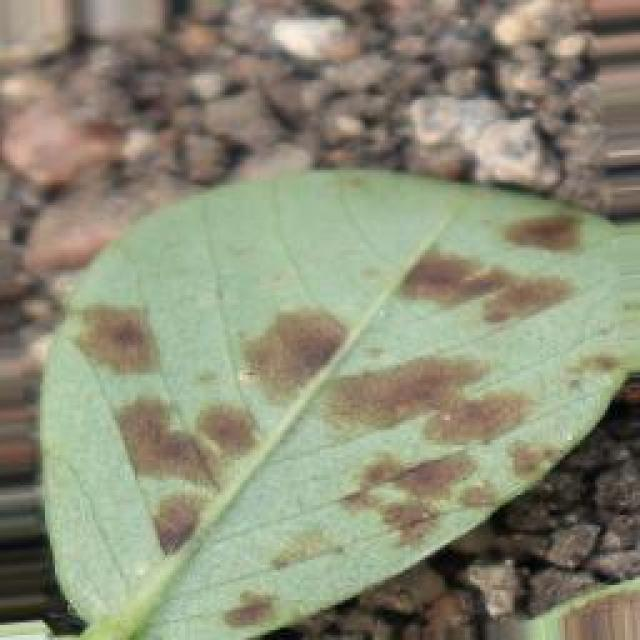Whitefly: (33, 186, 581, 608)
